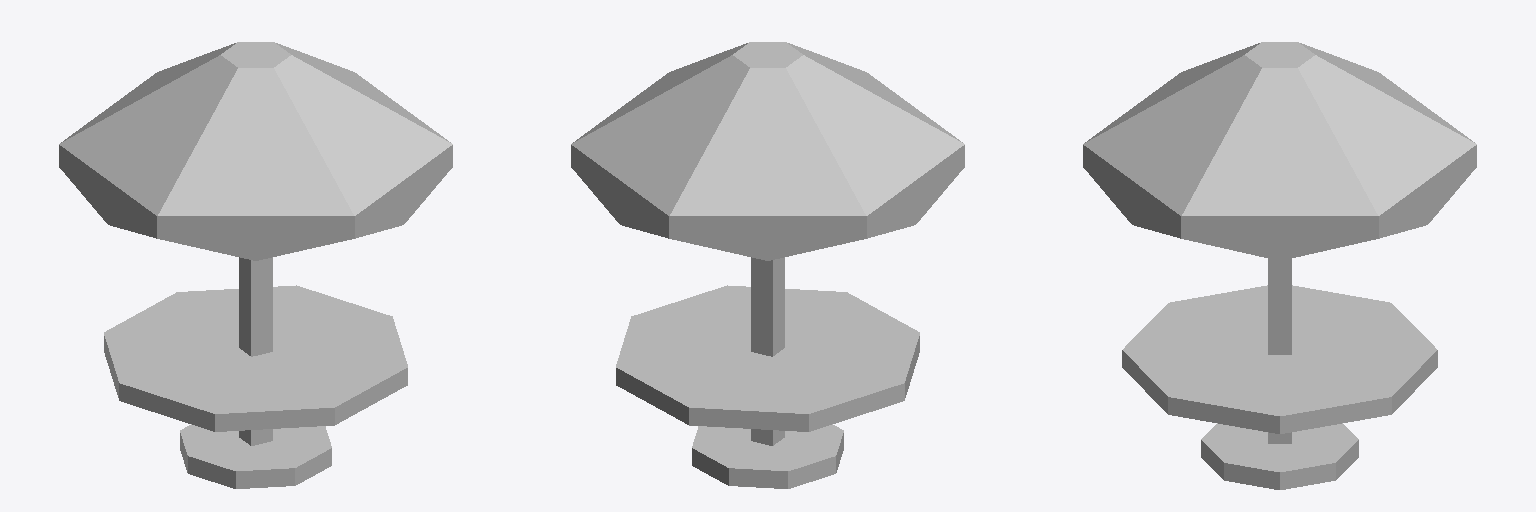
The model's file is detail-parasol-b.obj.
3 renders of one model, left to right at view 1: azimuth 30°, elevation 25°; view 2: azimuth 150°, elevation 25°; view 3: azimuth 270°, elevation 25°, orthographic.
Parts seen in each view (by area): view 1: detail-parasol-b; view 2: detail-parasol-b; view 3: detail-parasol-b.
Boxes of the visible parts, x1=… form: detail-parasol-b: x1=59, y1=42, x2=452, y2=488; detail-parasol-b: x1=571, y1=42, x2=964, y2=488; detail-parasol-b: x1=1083, y1=42, x2=1476, y2=489.
Bounding box in the file's own units: 0.3464 × 0.45 × 0.4.